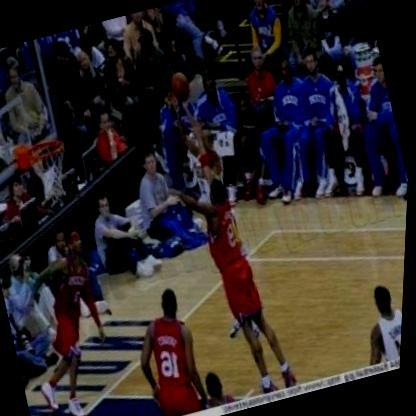basketball: (161, 64, 197, 106)
